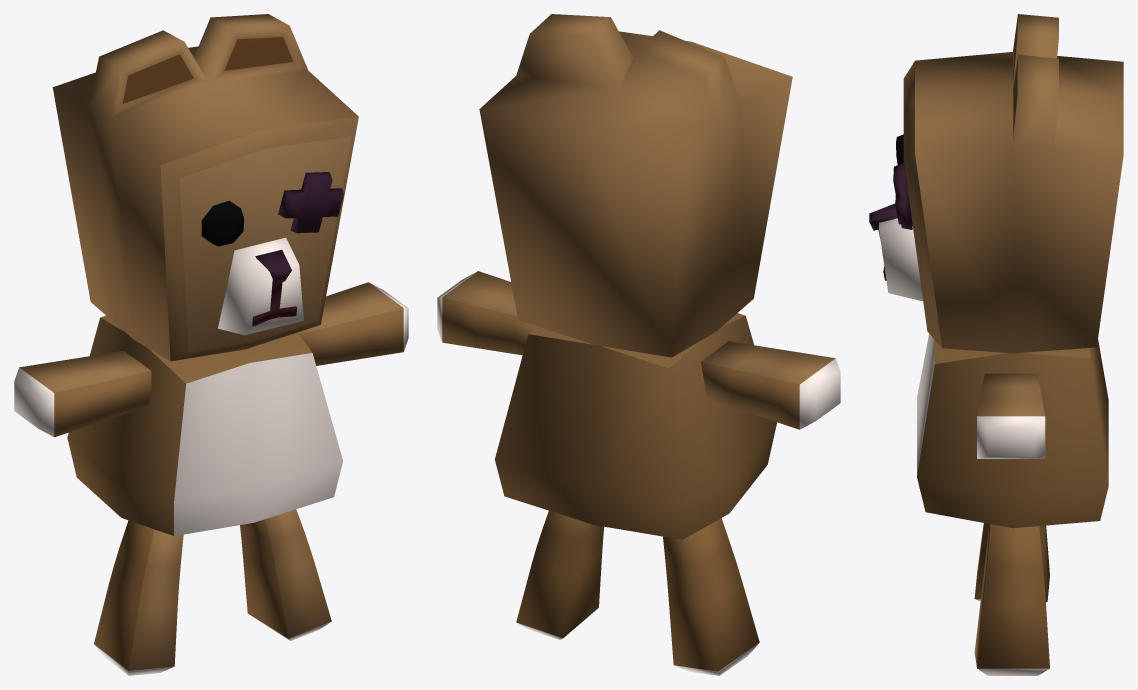
The model's file is teddybear.fbx.
3 renders of one model, left to right at view 1: azimuth 30°, elevation 25°; view 2: azimuth 150°, elevation 25°; view 3: azimuth 270°, elevation 25°, orthographic. The views are drawn at different scales.
Visible parts, largest first — view 1: teddybear; view 2: teddybear; view 3: teddybear.
Part boxes in pixels (x1=…): teddybear: x1=14, y1=14, x2=408, y2=675; teddybear: x1=437, y1=14, x2=840, y2=675; teddybear: x1=869, y1=14, x2=1123, y2=675.
Bounding box in the file's own units: 0.6054 × 0.9559 × 0.3724.
